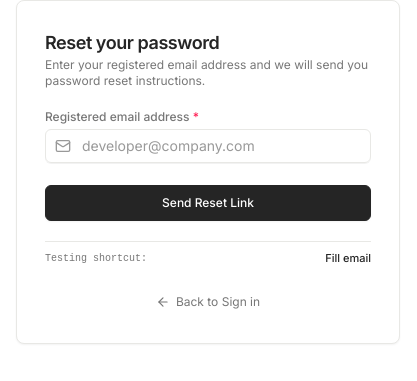
Scenario: Authentication Pages & Workflows › ForgotPasswordPage › validates email format and displays confirmation upon submission
In the field with placeholder "developer@company.com": coordinates (208, 146) 45,129 -> 371,163, type "dev@example.com"
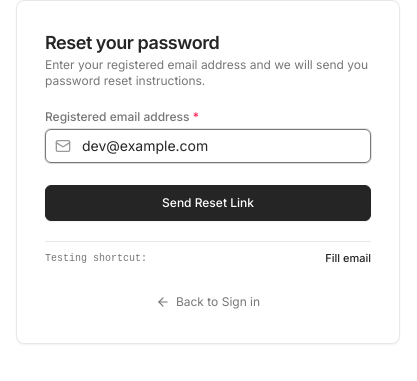
Click the button "Send Reset Link": coordinates (208, 203) 45,185 -> 371,221
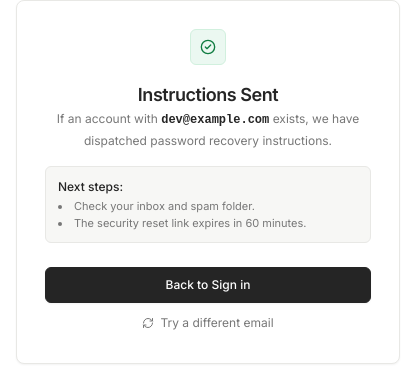
Result: the heading "Instructions Sent" is shown at 138,84 -> 278,105
